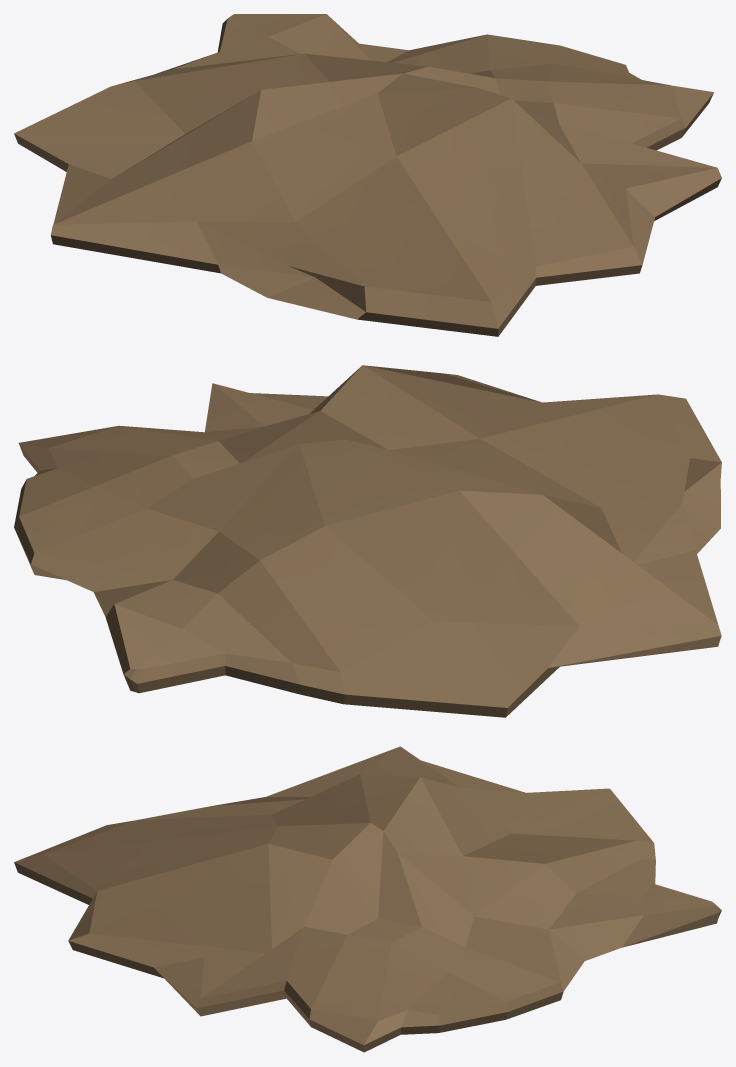
File: dirt_cluster_brown.glb
The picture shows the model from 3 angles, top to bottom: view 1: azimuth 30°, elevation 25°; view 2: azimuth 150°, elevation 25°; view 3: azimuth 270°, elevation 25°; orthographic projection. The views are drawn at different scales.
Parts seen in each view (by area): view 1: dirt_cluster_brown; view 2: dirt_cluster_brown; view 3: dirt_cluster_brown.
Boxes of the visible parts, x1,y1,x2,y2 form: dirt_cluster_brown: [14, 14, 721, 336]; dirt_cluster_brown: [14, 365, 721, 717]; dirt_cluster_brown: [14, 746, 721, 1052].
Bounding box in the file's own units: 0.8298 × 0.1274 × 0.8518.
1 material, 1 textured.
